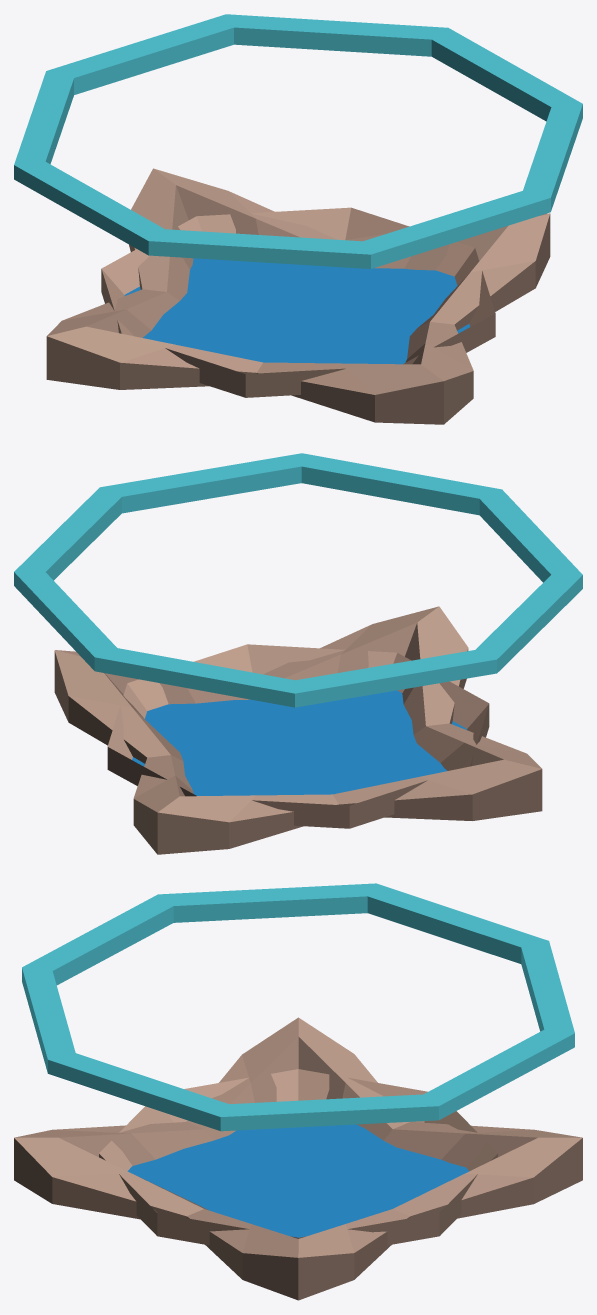
The model's file is warp.fbx.
3 views of the same model, one above another, from view 1: azimuth 30°, elevation 25°; view 2: azimuth 150°, elevation 25°; view 3: azimuth 270°, elevation 25° (orthographic). The views are drawn at different scales.
Visible parts, largest first — view 1: Cube, Cylinder; view 2: Cube, Cylinder; view 3: Cube, Cylinder.
Part boxes in pixels (x1,y1,x2,y2): Cube: [46, 168, 550, 424]; Cylinder: [14, 14, 582, 268]; Cube: [54, 606, 542, 854]; Cylinder: [14, 453, 582, 707]; Cube: [14, 1017, 582, 1300]; Cylinder: [22, 883, 574, 1131].
Bounding box in the file's own units: 198 × 70.61 × 198.
